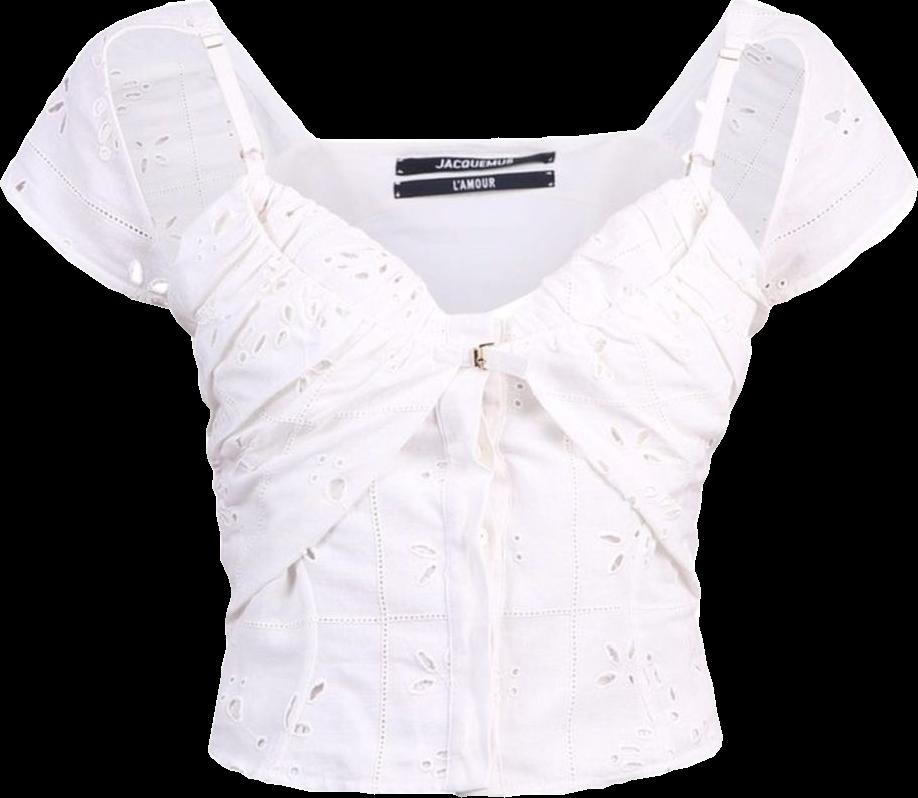Bodice: (97, 0, 821, 795)
Neckline: (205, 1, 734, 319), (245, 168, 710, 349)
Sleeve: (0, 34, 183, 329), (765, 32, 917, 304)
Sleeveline: (96, 31, 179, 316), (762, 27, 823, 301)
Waistline: (227, 361, 698, 616), (204, 739, 725, 797)
